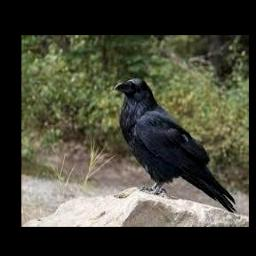Crow: (114, 78, 236, 214)
